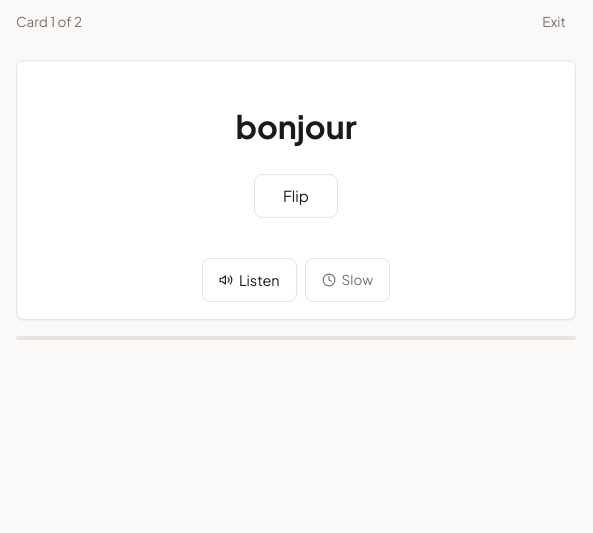
Scenario: FlashcardPractice — card progression › hides the rating bar until the card is flipped
Expected: the text "bonjour" is shown, x1=235 y1=102 x2=357 y2=150
Expected: the button "Knew It" is not shown
Click the button with aria-label "Flip card" at (296, 196), box x1=254 y1=174 x2=338 y2=218
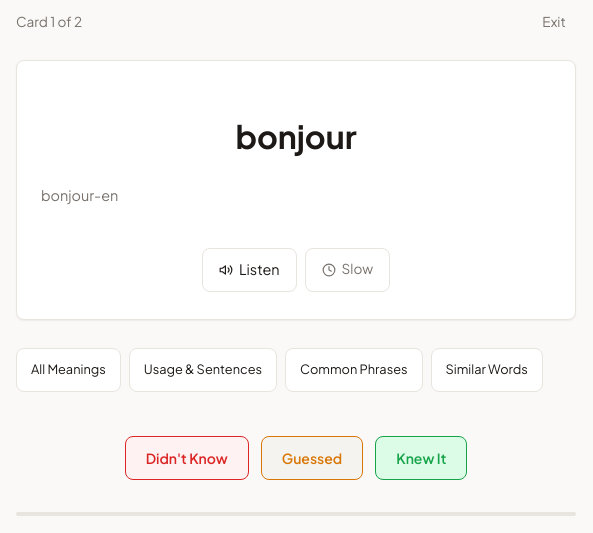
Expected: the button "Knew It" is shown, x1=375 y1=436 x2=467 y2=480
